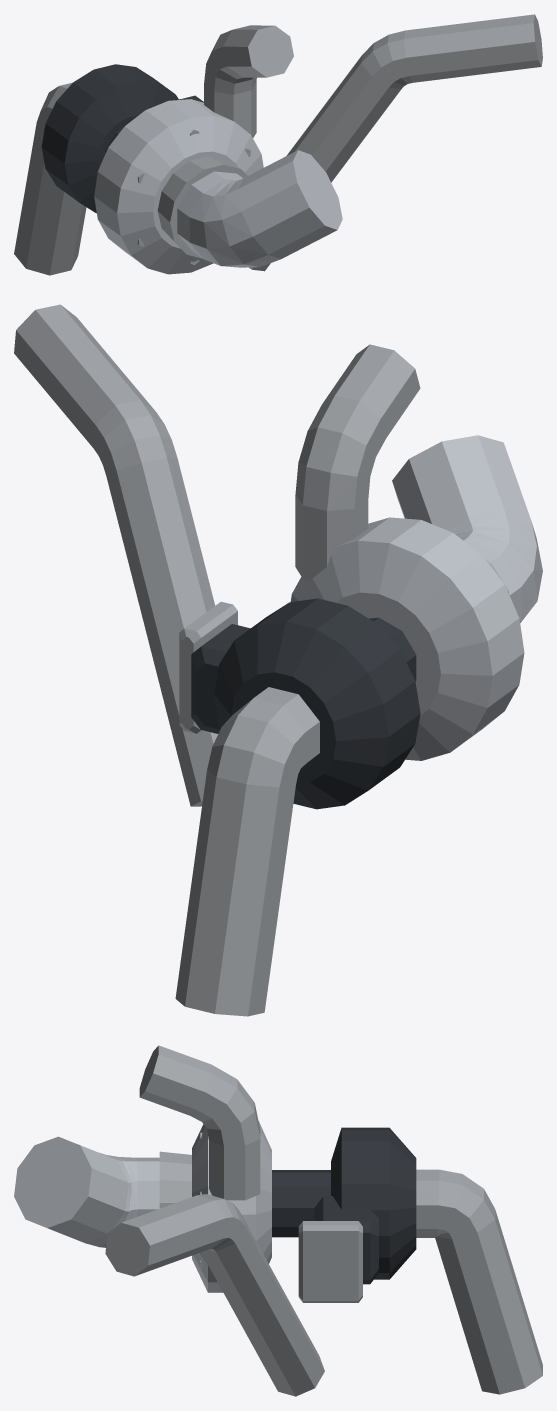
File: kaze_gt.glb
3 views of the same model, one above another, from view 1: azimuth 30°, elevation 25°; view 2: azimuth 150°, elevation 25°; view 3: azimuth 270°, elevation 25° (orthographic). The views are drawn at different scales.
Parts seen in each view (by area): view 1: model; view 2: model; view 3: model.
Boxes of the visible parts, x1,y1,x2,y2 form: model: [14, 14, 542, 275]; model: [14, 304, 542, 1016]; model: [14, 1045, 542, 1396].
Size of the model in its own units: 0.4491 by 0.3742 by 0.4949.
2 materials, 1 textured.
